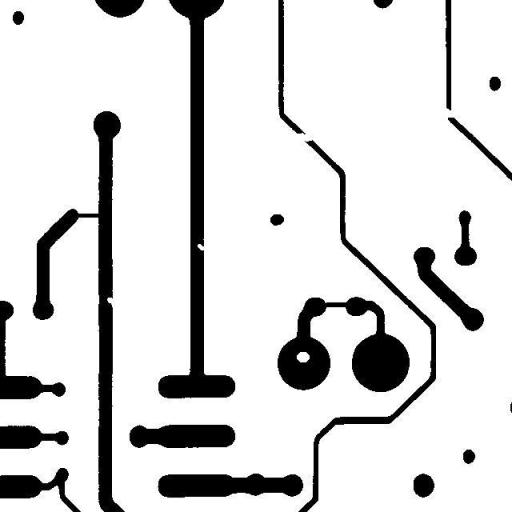copper: (262, 206, 292, 233)
mousebite: (99, 290, 126, 312), (190, 236, 212, 258)
open: (287, 125, 320, 149), (436, 100, 462, 126)
pin-hole: (289, 344, 317, 370)
short: (317, 294, 357, 314), (70, 206, 107, 224)
